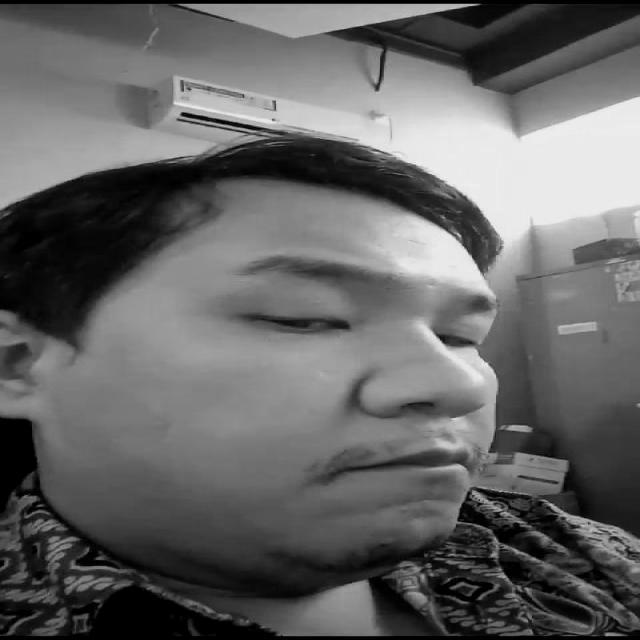real: (76, 198, 502, 580)
